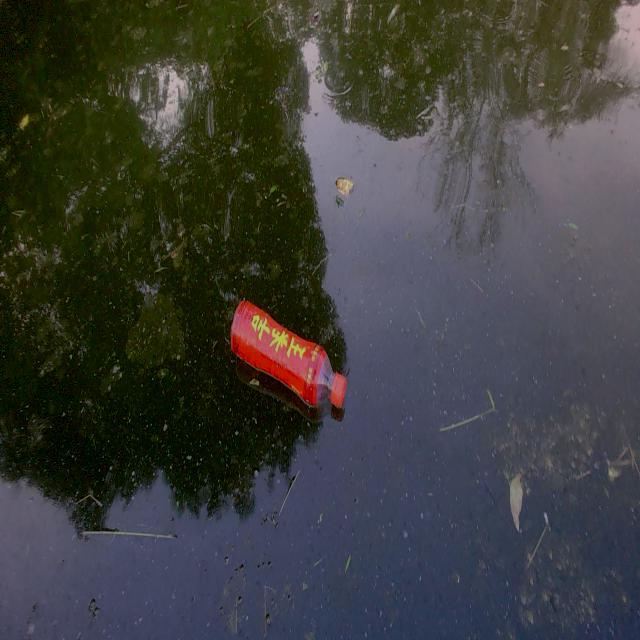bottle: (222, 292, 362, 415)
